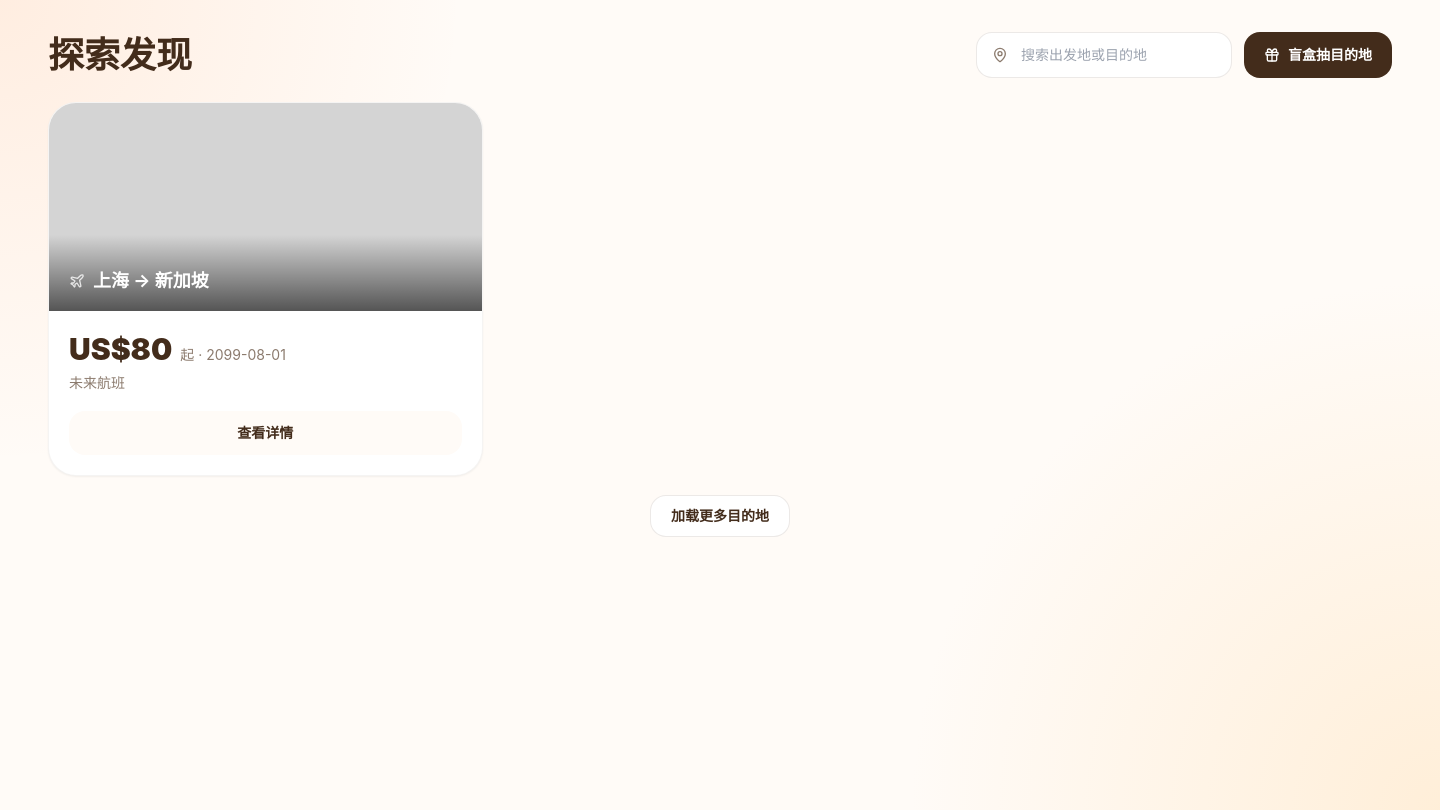
Test: loads the next recommendation page after the first six-card page
Click the button "加载更多目的地": (720, 516) 650,495 -> 790,537
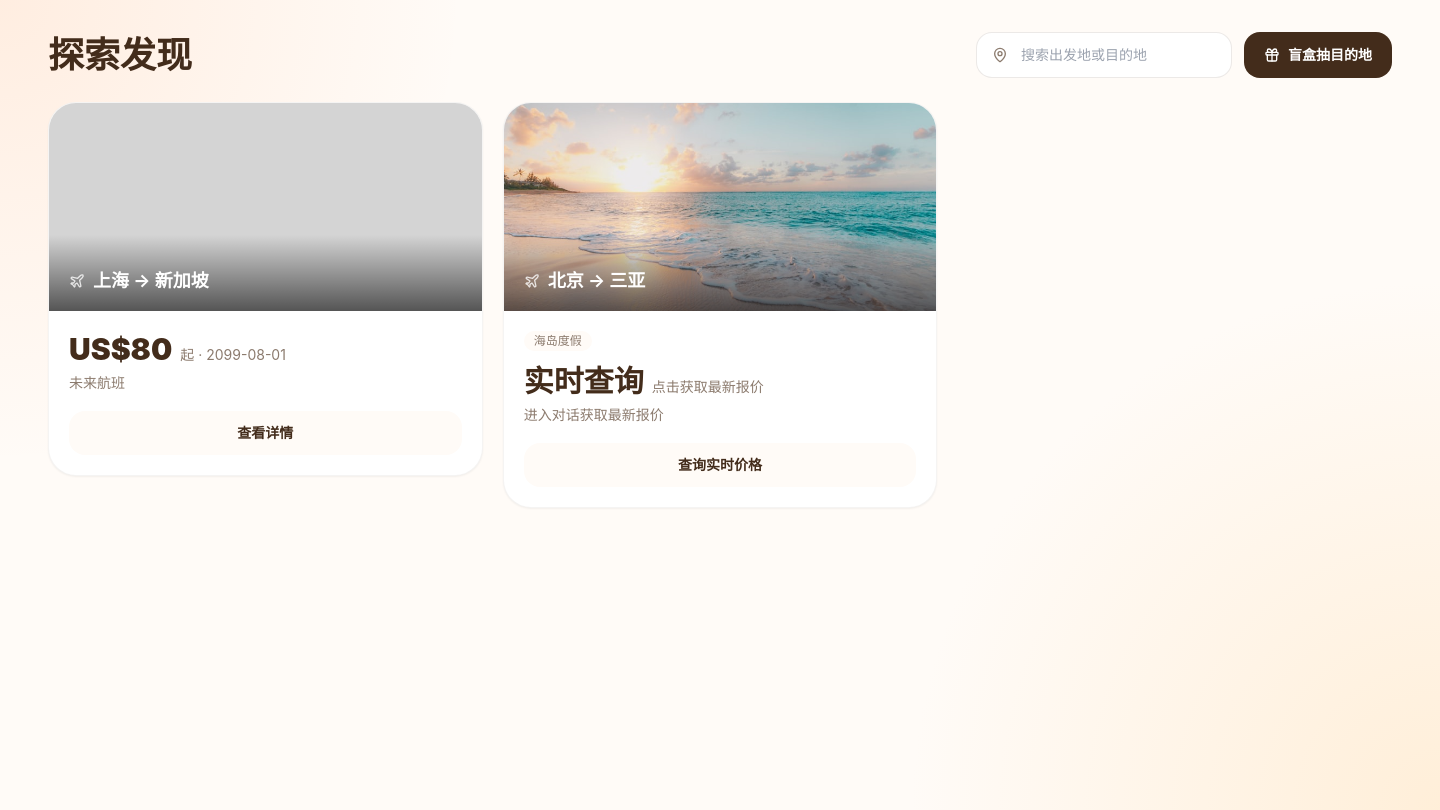
expect the text "北京 → 三亚" is shown: met, box 548,267 -> 645,295
expect the button "加载更多目的地" is gone: met
